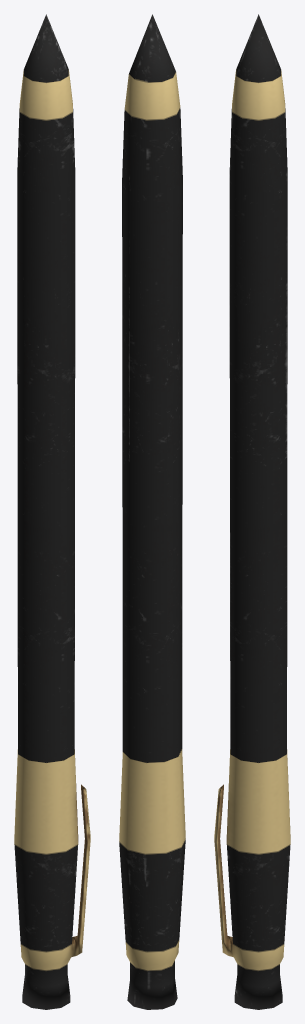
The model's file is obj_Object_Caneta.fbx.
The picture shows the model from 3 angles, left to right: view 1: azimuth 90°, elevation 25°; view 2: azimuth 150°, elevation 25°; view 3: azimuth 270°, elevation 25°; orthographic projection.
Parts seen in each view (by area): view 1: pCone1; view 2: pCone1; view 3: pCone1.
Part boxes in pixels (x1=…): pCone1: x1=14, y1=14, x2=90, y2=1009; pCone1: x1=119, y1=14, x2=185, y2=1009; pCone1: x1=214, y1=14, x2=290, y2=1009.
Bounding box in the file's own units: 0.712 × 11.55 × 0.8082.
1 material, 1 textured.
